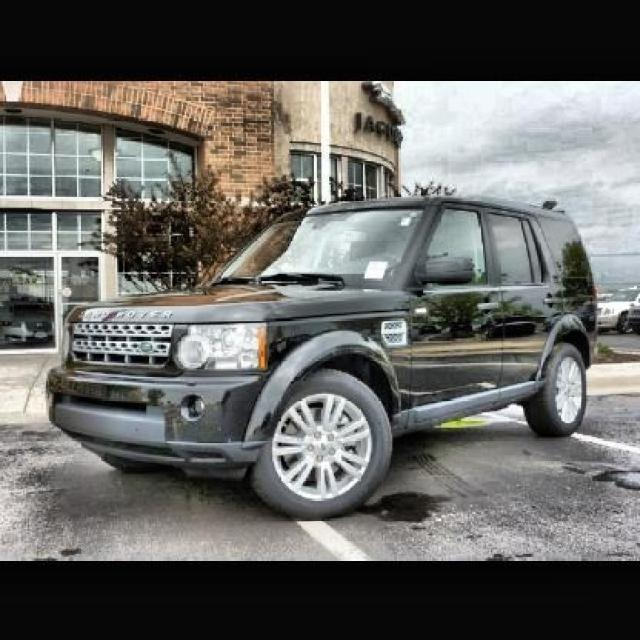black: (54, 163, 640, 474)
